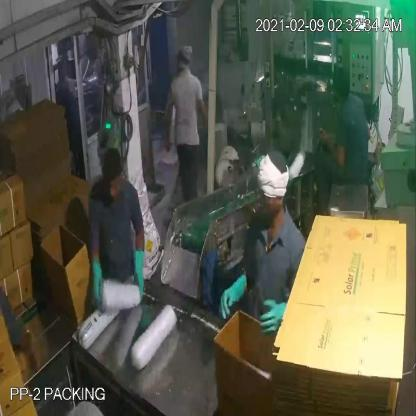glove: (80, 240, 112, 314), (213, 262, 253, 320), (255, 291, 292, 340), (126, 237, 149, 306)
no_glove: (315, 118, 352, 171), (192, 81, 217, 147), (161, 94, 176, 156)
